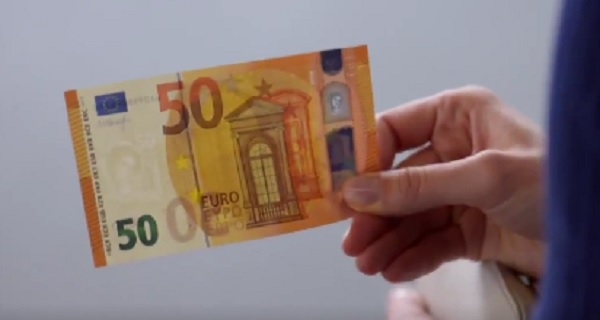billete: (62, 42, 390, 270)
